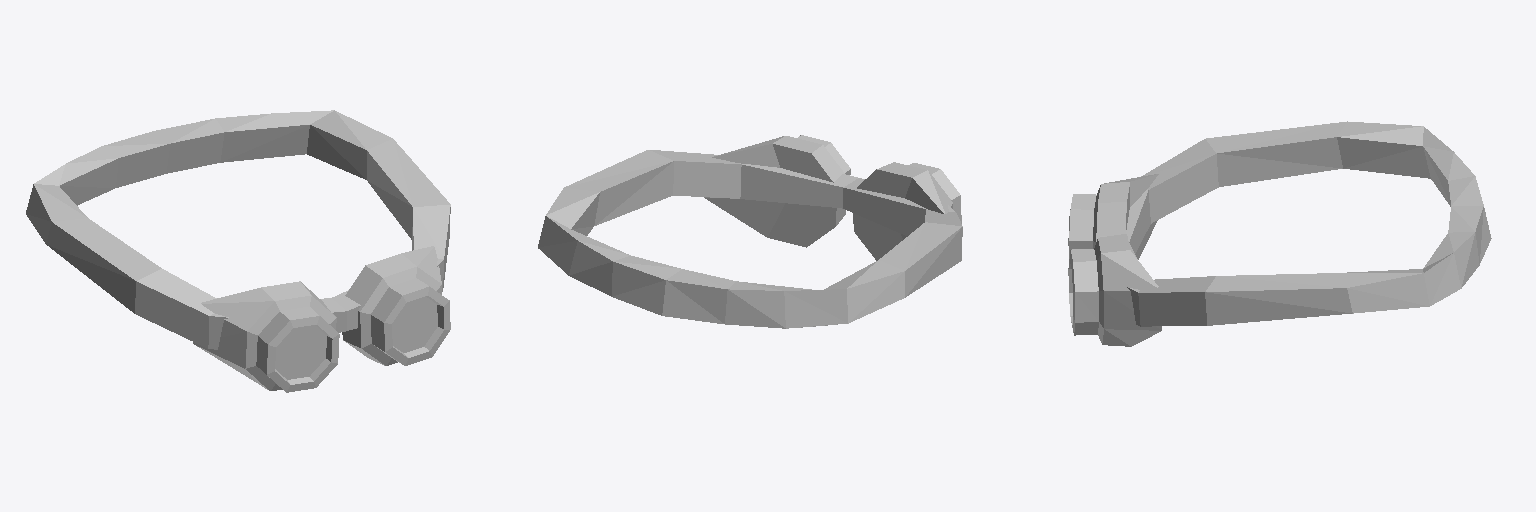
File: SM_Chr_Attach_Blacksmith_Female_Goggles_02.obj
3 renders of one model, left to right at view 1: azimuth 30°, elevation 25°; view 2: azimuth 150°, elevation 25°; view 3: azimuth 270°, elevation 25°, orthographic.
Parts seen in each view (by area): view 1: SM_Chr_Attach_Blacksmith_Female_Goggles_02; view 2: SM_Chr_Attach_Blacksmith_Female_Goggles_02; view 3: SM_Chr_Attach_Blacksmith_Female_Goggles_02.
Part boxes in pixels (x1,y1,x2,y2): SM_Chr_Attach_Blacksmith_Female_Goggles_02: (26, 110, 450, 392); SM_Chr_Attach_Blacksmith_Female_Goggles_02: (538, 135, 962, 328); SM_Chr_Attach_Blacksmith_Female_Goggles_02: (1068, 121, 1491, 346).
Bounding box in the file's own units: 28.64 × 8.88 × 30.24.